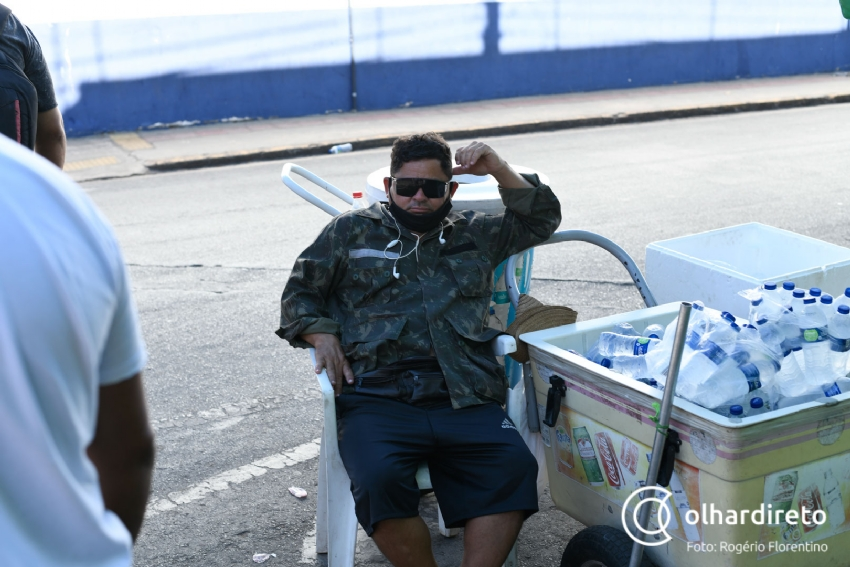mask_weared_incorrect: (381, 158, 460, 234)
